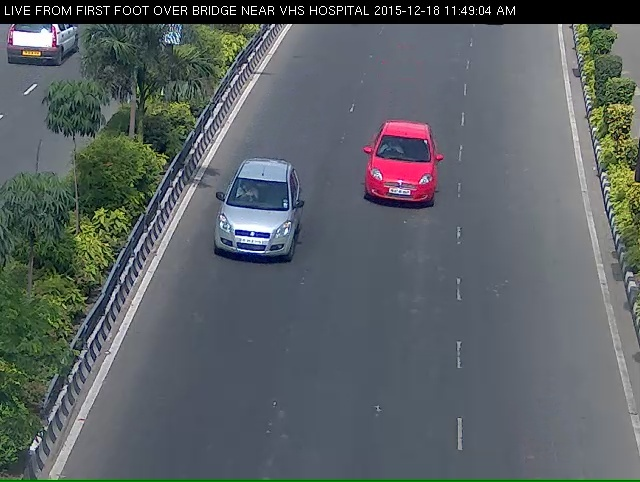Car: (211, 170, 292, 289), (363, 133, 442, 237)
